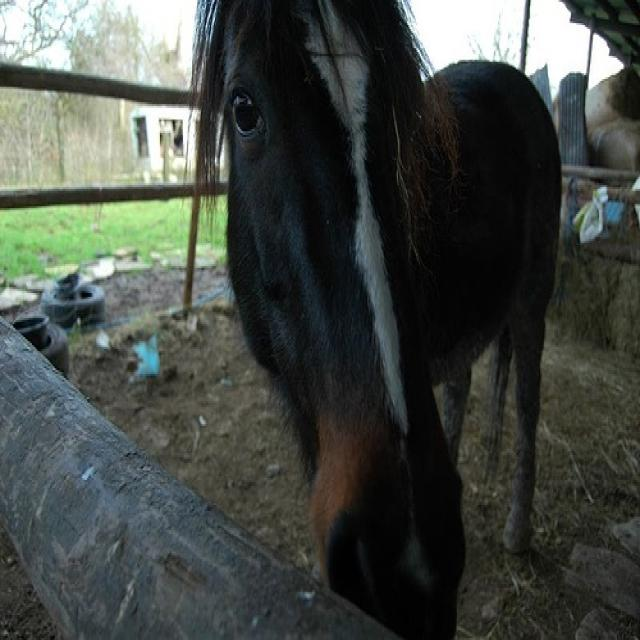horse: (193, 2, 562, 638)
